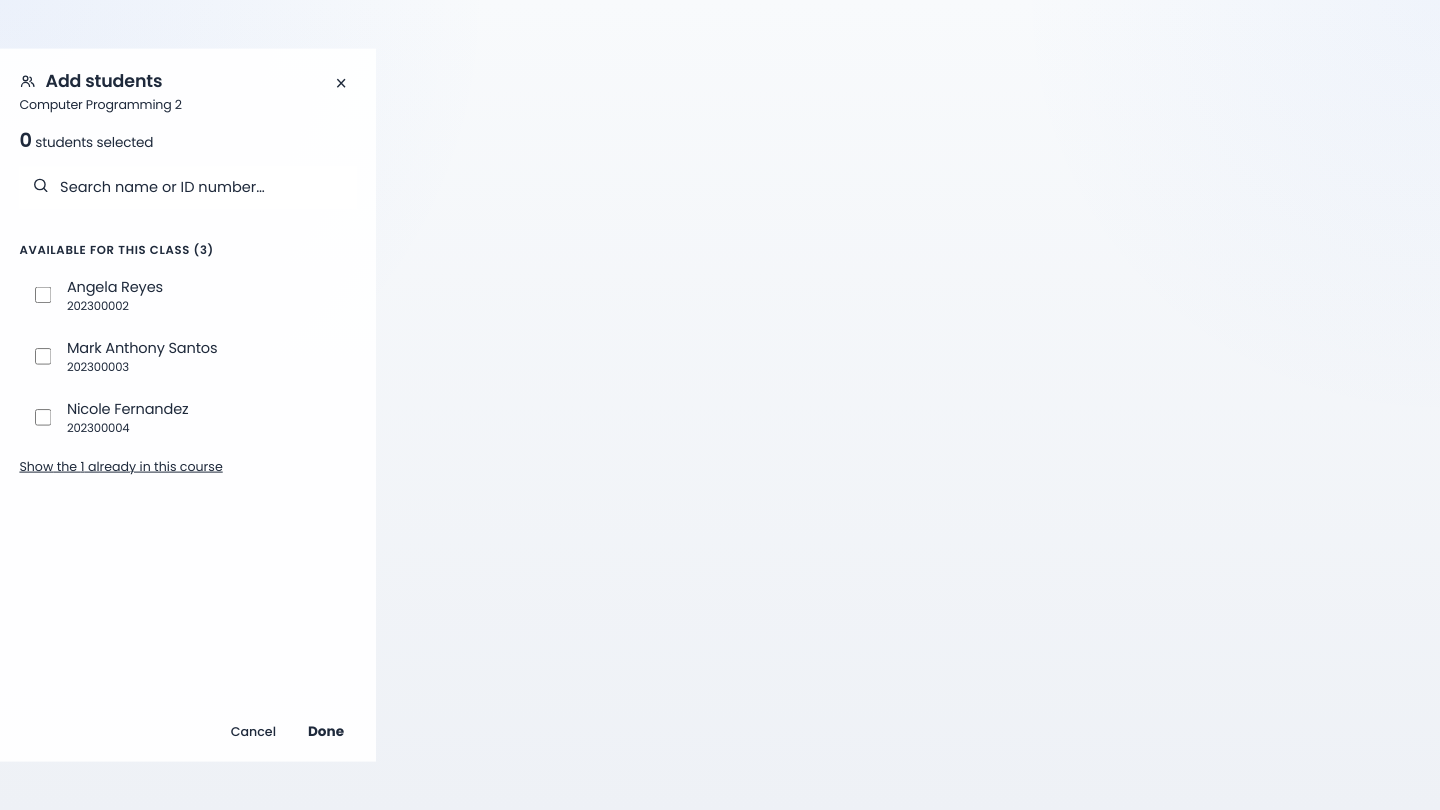
it: PeoplePicker › filters by name and by student number
The width and height of the screenshot is (1440, 810).
In the search field named "Search students": (201, 187) x1=58 y1=176 x2=343 y2=199, type "nicole"
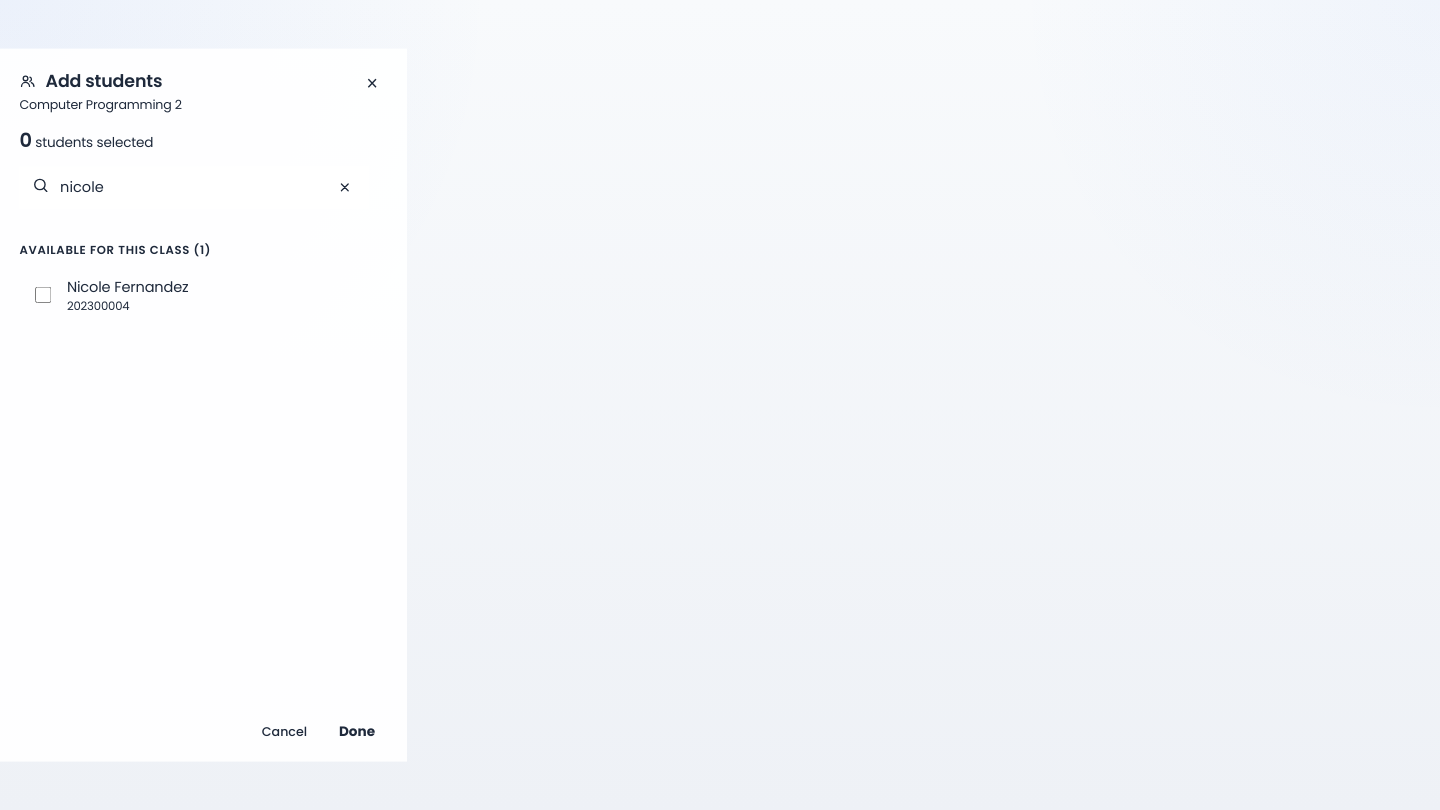
expect the text "Available for this class (1)" is shown: met, box x1=19 y1=242 x2=211 y2=258
Replace the text in the search field named "Search students" with "202300002": (191, 187) x1=58 y1=176 x2=324 y2=199
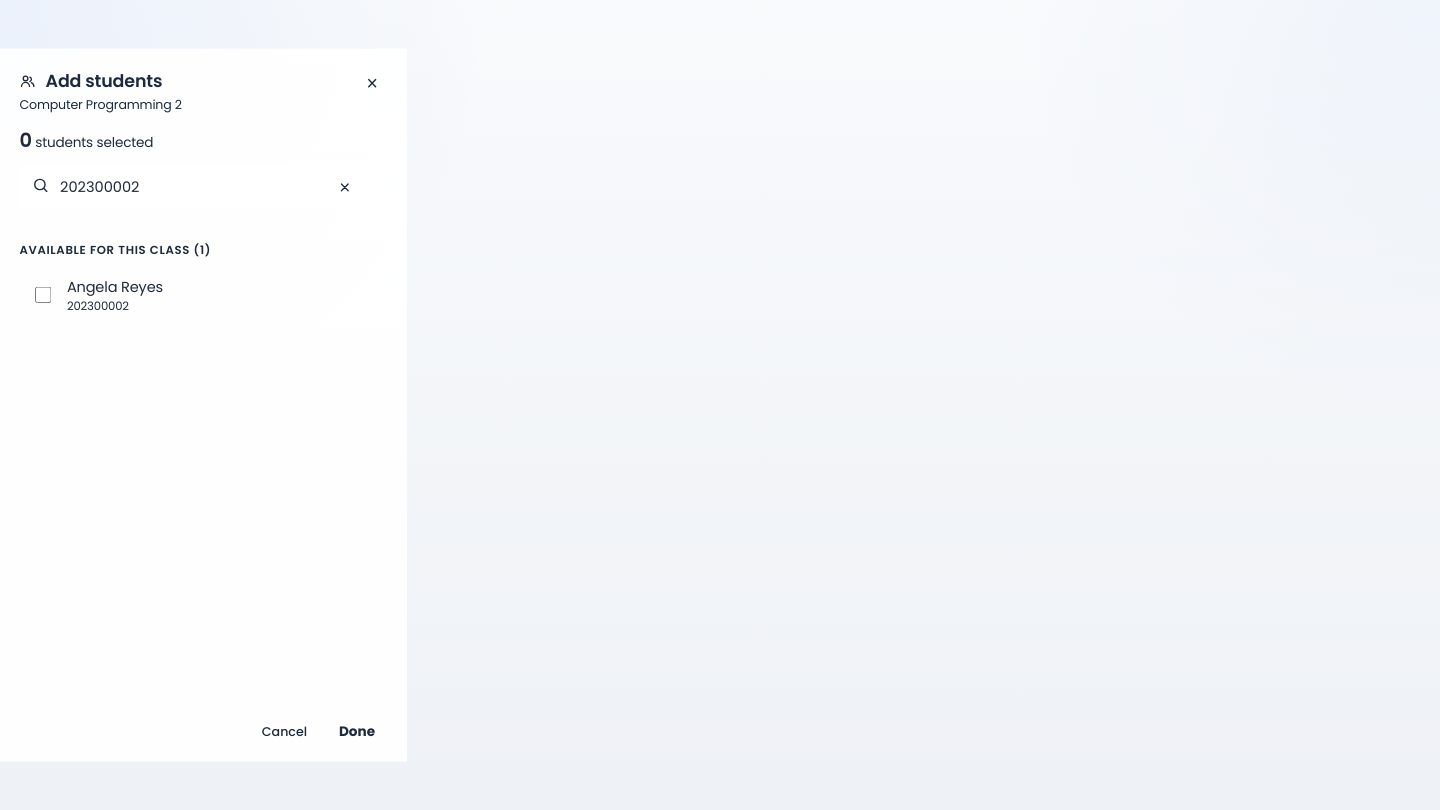
expect the text "Angela Reyes" is shown: met, box x1=67 y1=276 x2=163 y2=297
expect the text "Nicole Fernandez" is gone: met
